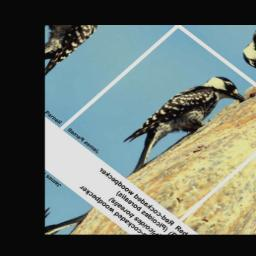Woodpecker: (105, 61, 253, 187)
